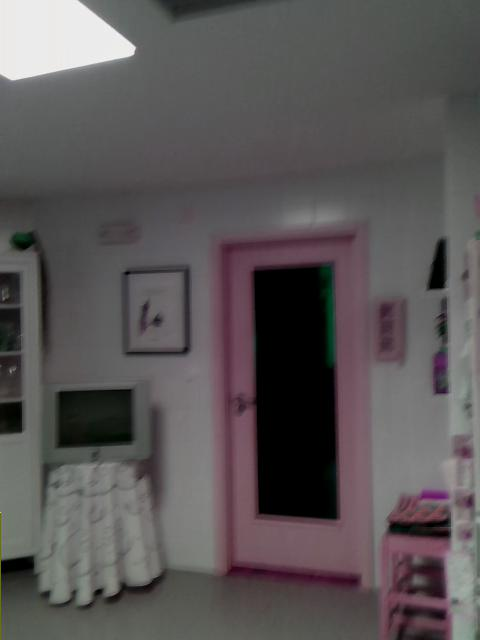closed_door: (216, 219, 373, 586)
